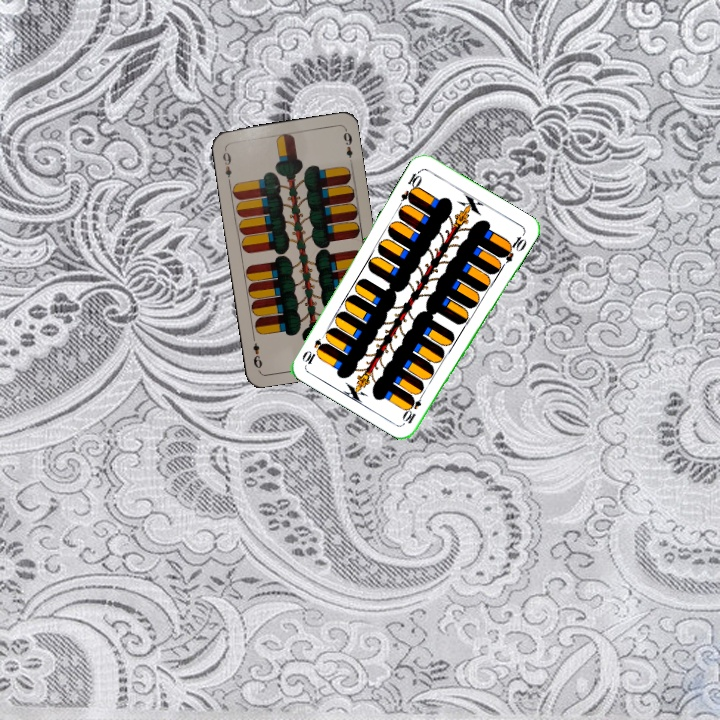E10: (397, 166, 425, 205), (400, 388, 427, 426)
E9: (219, 145, 234, 185)
